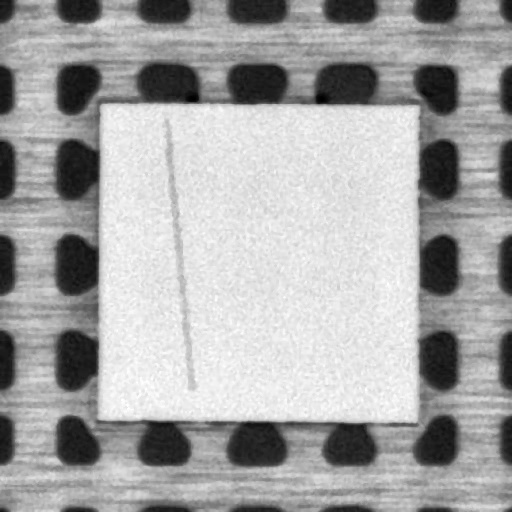DIE_CRACK: (165, 119, 190, 389)
